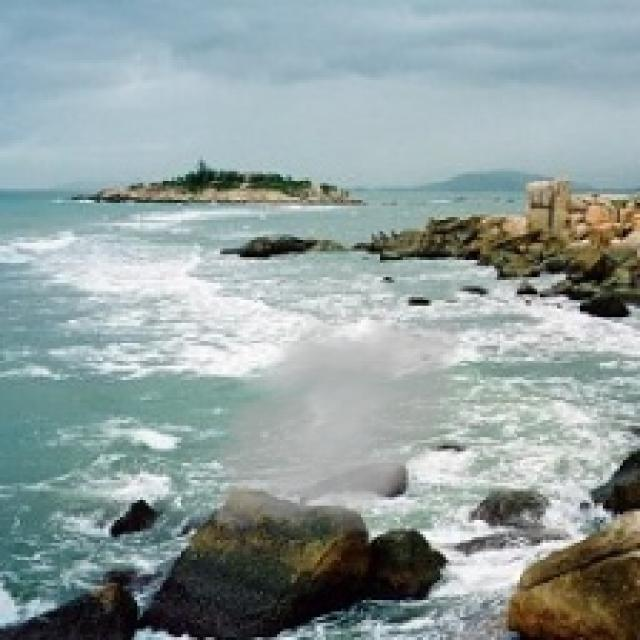Smoke: (200, 294, 474, 554)
